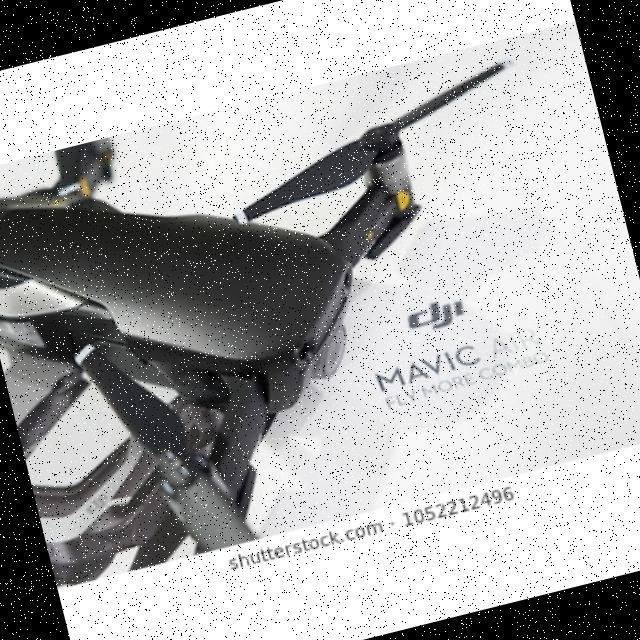Drones: (0, 63, 515, 581)
